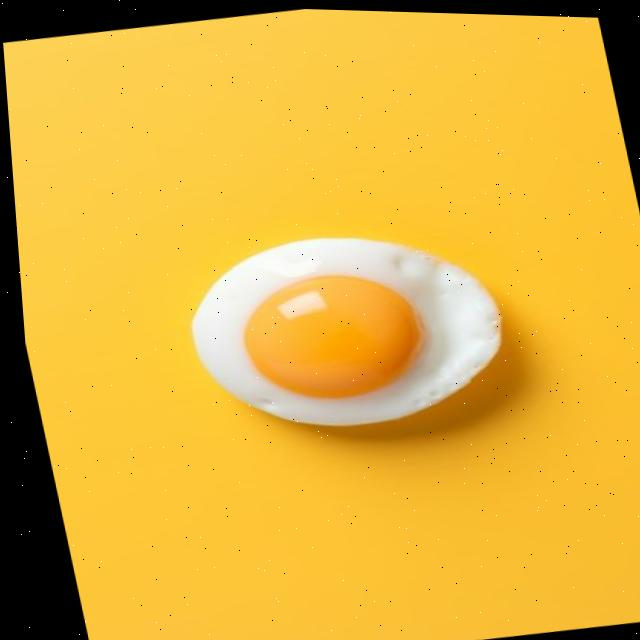Egg: (187, 235, 495, 423)
